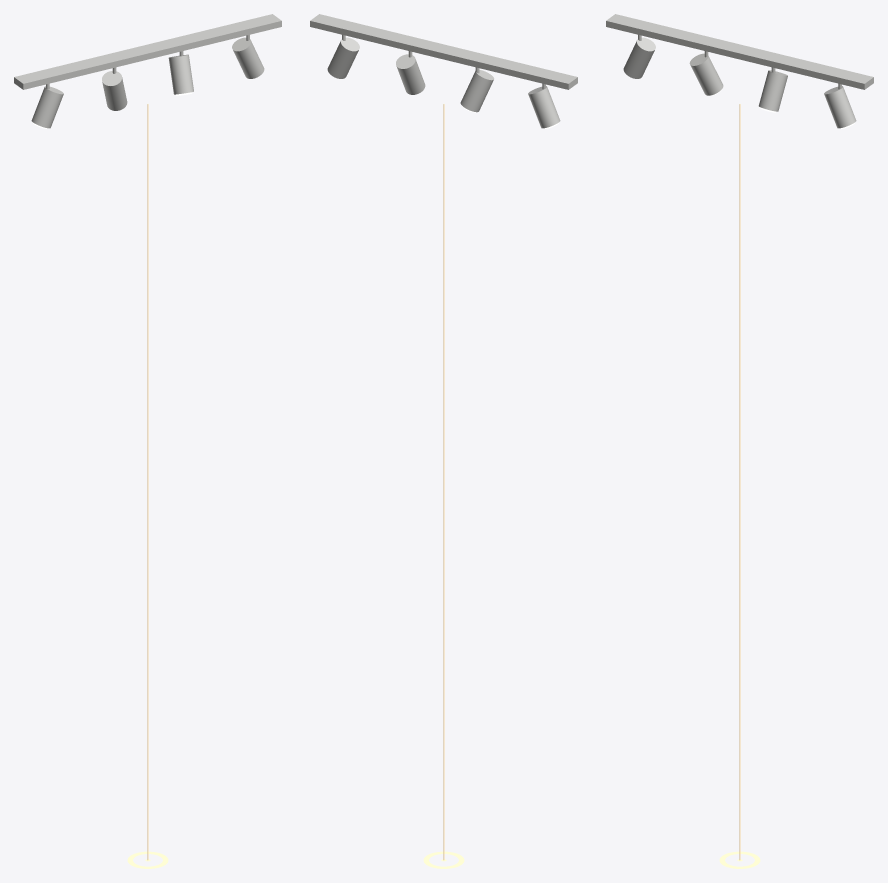
The model's file is plafonnier-moderne-acier-blanc-orientable-sejour-orpheane.glb.
3 renders of one model, left to right at view 1: azimuth 30°, elevation 25°; view 2: azimuth 150°, elevation 25°; view 3: azimuth 330°, elevation 25°, orthographic.
Parts seen in each view (by area): view 1: plafonnier-moderne-acier-blanc-orientable-sejour-orpheane, reperage-fil; view 2: plafonnier-moderne-acier-blanc-orientable-sejour-orpheane, reperage-fil; view 3: plafonnier-moderne-acier-blanc-orientable-sejour-orpheane, reperage-fil.
Part boxes in pixels (bbox=[...]): plafonnier-moderne-acier-blanc-orientable-sejour-orpheane: bbox=[14, 14, 281, 128]; reperage-fil: bbox=[147, 104, 148, 860]; plafonnier-moderne-acier-blanc-orientable-sejour-orpheane: bbox=[310, 14, 577, 128]; reperage-fil: bbox=[443, 104, 444, 860]; plafonnier-moderne-acier-blanc-orientable-sejour-orpheane: bbox=[606, 14, 873, 128]; reperage-fil: bbox=[739, 104, 740, 860].
Bounding box in the file's own units: 0.8 × 2.4 × 0.11.
